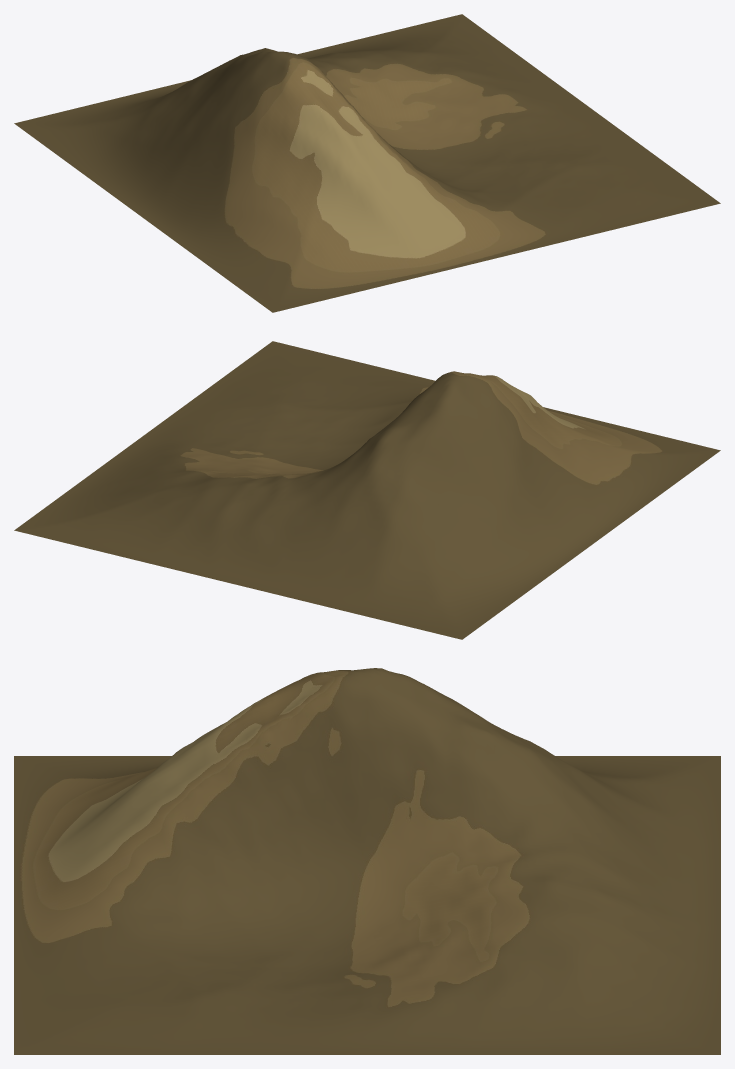
3 views of the same model, one above another, from view 1: azimuth 30°, elevation 25°; view 2: azimuth 150°, elevation 25°; view 3: azimuth 270°, elevation 25° (orthographic). The views are drawn at different scales.
Parts seen in each view (by area): view 1: Landscape.1; view 2: Landscape.1; view 3: Landscape.1.
Part boxes in pixels (x1,y1,x2,y2): Landscape.1: (14, 14, 720, 312); Landscape.1: (14, 341, 720, 639); Landscape.1: (14, 668, 720, 1054).
Size of the model in its own units: 1000 by 280 by 1000.
1 material, 1 textured.
